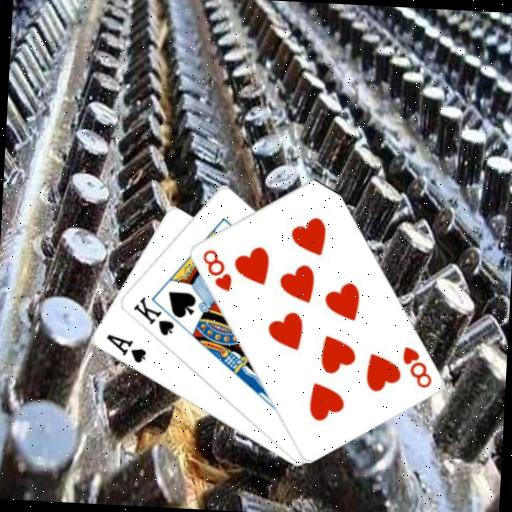8H: (197, 245, 235, 294), (397, 343, 435, 390)
AS: (102, 331, 149, 365)
KS: (128, 293, 177, 338)
